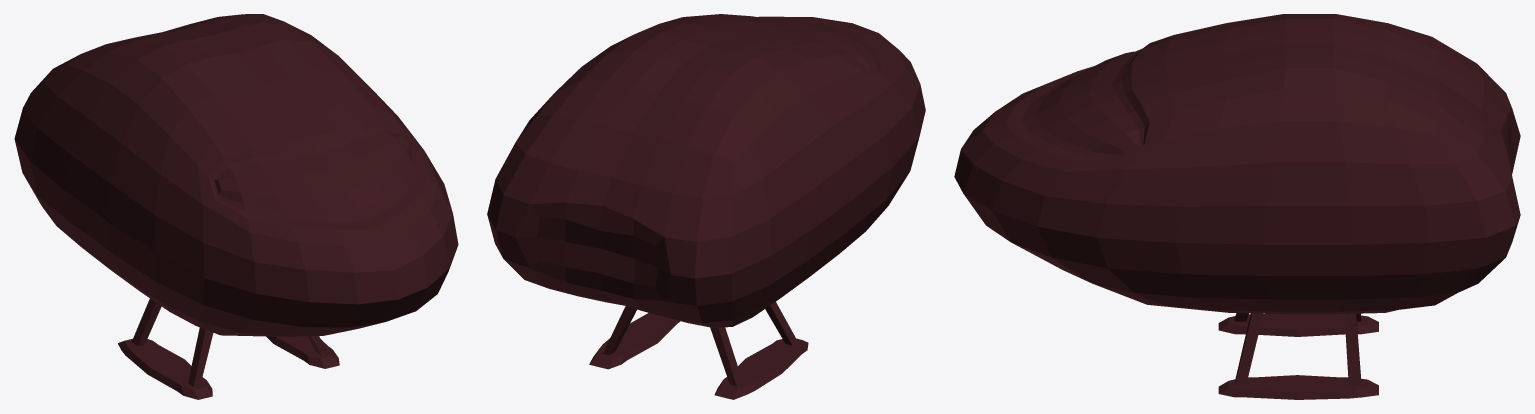
File: HumanDrone.fbx
3 renders of one model, left to right at view 1: azimuth 30°, elevation 25°; view 2: azimuth 150°, elevation 25°; view 3: azimuth 270°, elevation 25°, orthographic. The views are drawn at different scales.
Parts seen in each view (by area): view 1: HumanDrone; view 2: HumanDrone; view 3: HumanDrone.
Boxes of the visible parts, box(x1,y1,x2,y2) form: HumanDrone: box(14, 14, 458, 399); HumanDrone: box(487, 14, 925, 399); HumanDrone: box(954, 14, 1520, 399).
Bounding box in the file's own units: 2.88 × 3.04 × 4.94.
